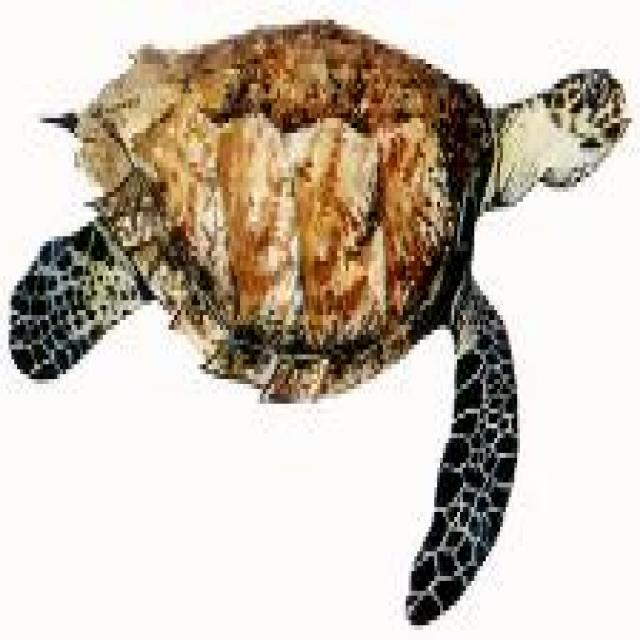Sea turtle: (12, 23, 630, 605)
